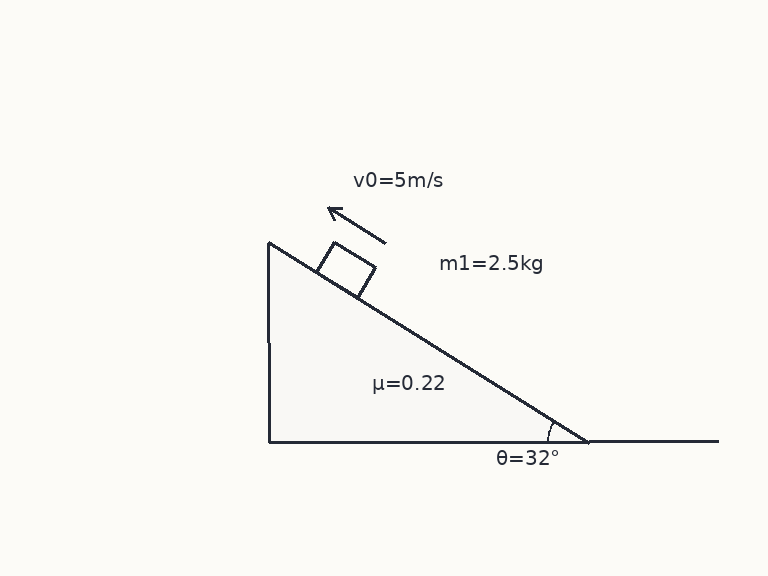block: (313, 239, 378, 300)
ramp: (266, 240, 590, 444)
